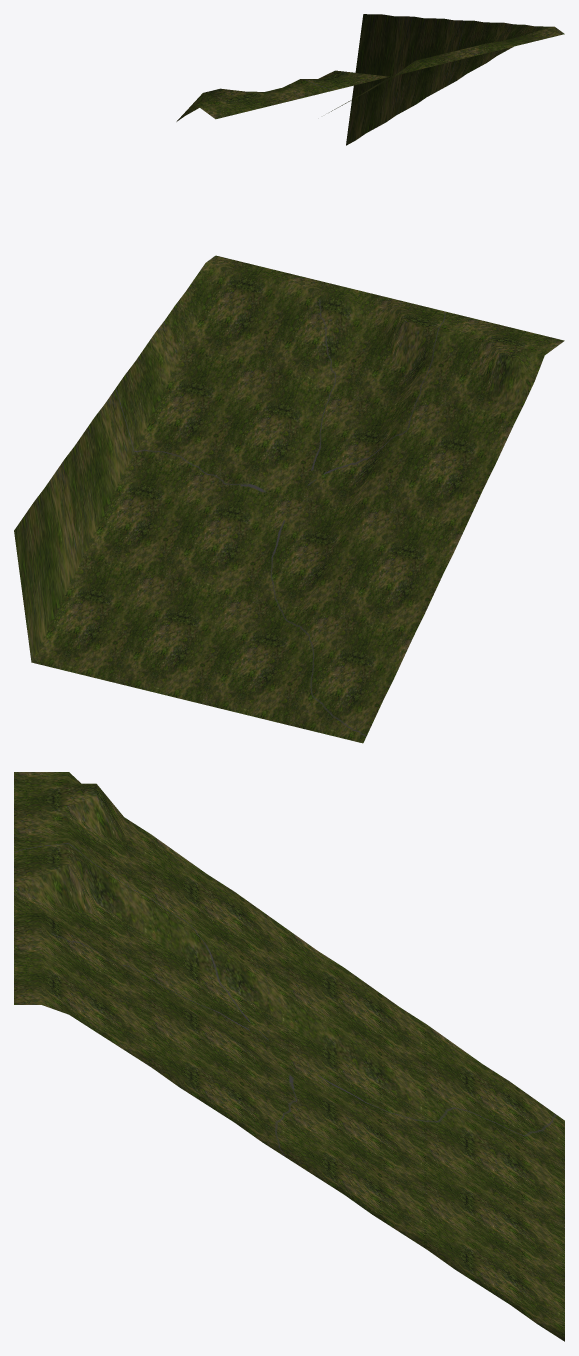
File: hills.glb
The picture shows the model from 3 angles, top to bottom: view 1: azimuth 30°, elevation 25°; view 2: azimuth 150°, elevation 25°; view 3: azimuth 270°, elevation 25°; orthographic projection. The views are drawn at different scales.
Parts seen in each view (by area): view 1: largeGround; view 2: largeGround; view 3: largeGround.
Part boxes in pixels (bbox=[...]): largeGround: bbox=[176, 14, 564, 145]; largeGround: bbox=[14, 255, 564, 743]; largeGround: bbox=[14, 772, 564, 1341].
Bounding box in the file's own units: 150 × 105 × 150.
1 material, 1 textured.
